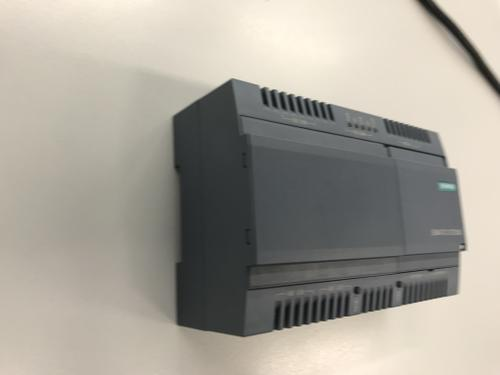device: (173, 78, 468, 338)
